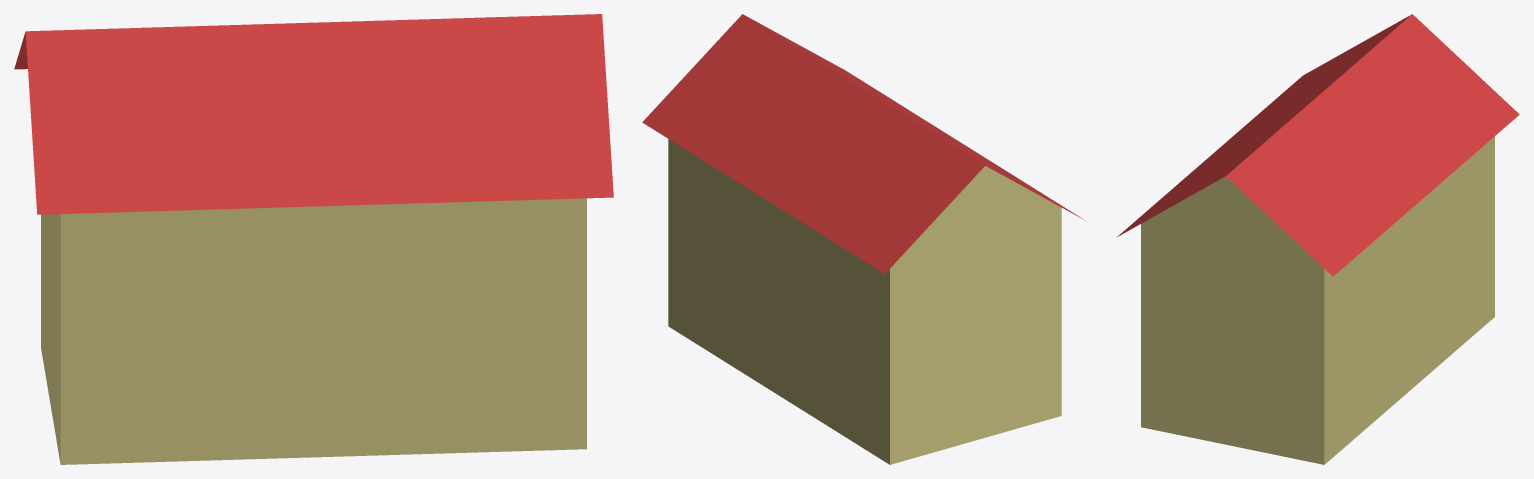
The picture shows the model from 3 angles, left to right: view 1: azimuth 30°, elevation 25°; view 2: azimuth 150°, elevation 25°; view 3: azimuth 270°, elevation 25°; orthographic projection. The views are drawn at different scales.
Bounding box in the file's own units: 13.12 × 10.83 × 8.2.
